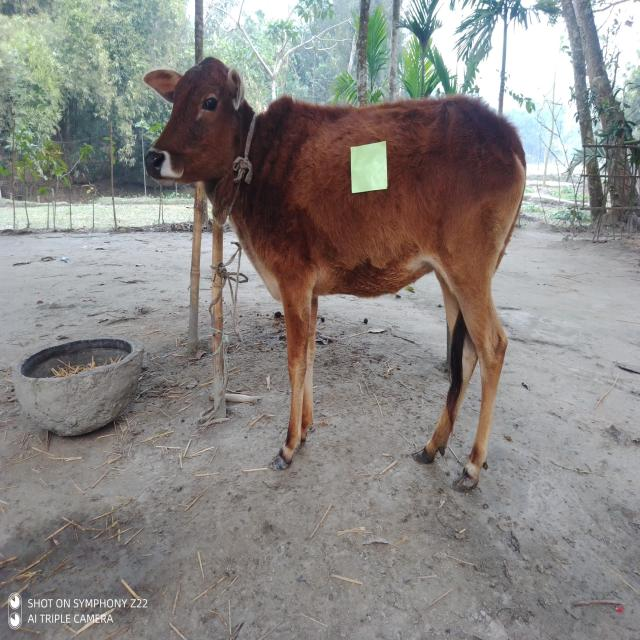badan_sapi: (278, 109, 506, 301)
sapi: (140, 53, 527, 492)
